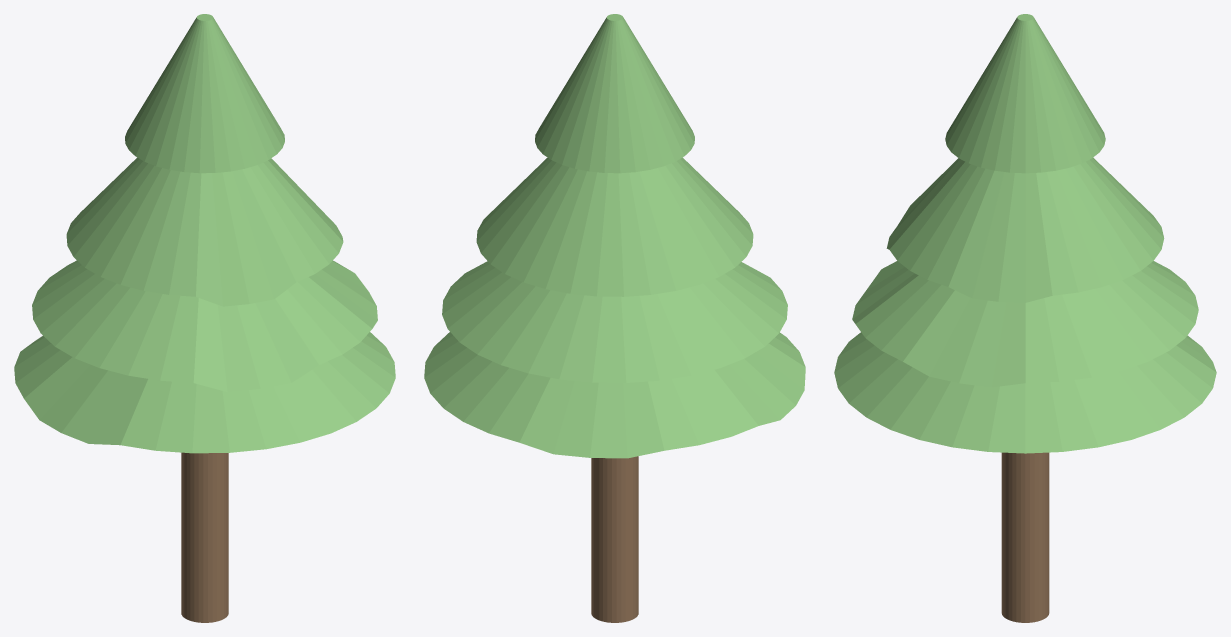
File: pinetree.fbx
3 views of the same model, side by side, from view 1: azimuth 30°, elevation 25°; view 2: azimuth 150°, elevation 25°; view 3: azimuth 270°, elevation 25° (orthographic).
Visible parts, largest first — view 1: Cylinder; view 2: Cylinder; view 3: Cylinder.
Boxes of the visible parts, x1,y1,x2,y2 form: Cylinder: (14,14,395,622); Cylinder: (424,14,805,622); Cylinder: (834,14,1216,622).
Size of the model in its own units: 772 by 1326 by 772.
